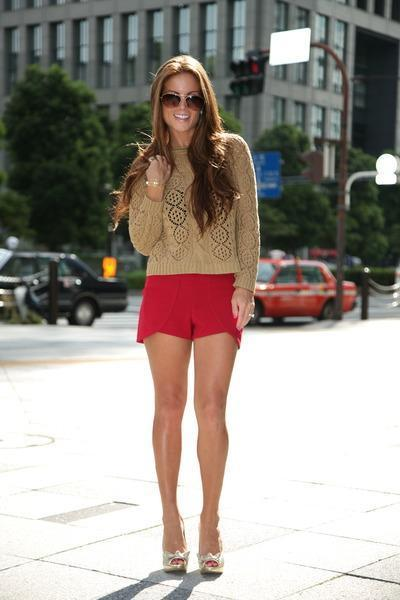jacket: (113, 108, 275, 299)
shoe: (156, 544, 187, 583)
shorts: (137, 273, 241, 361)
